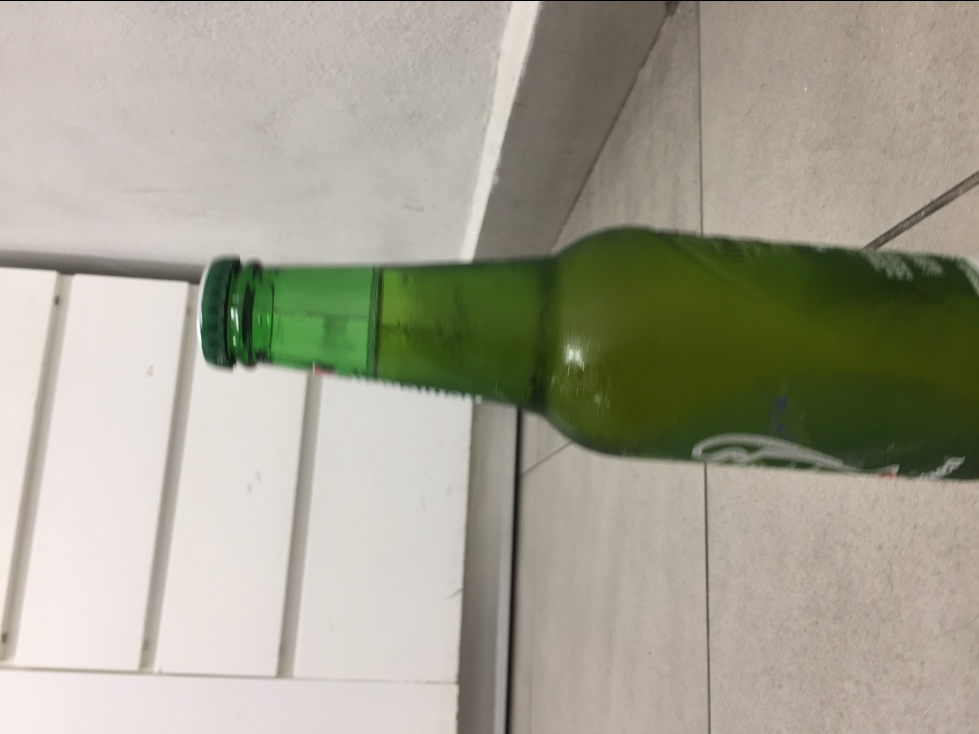heineken: (193, 222, 978, 486)
